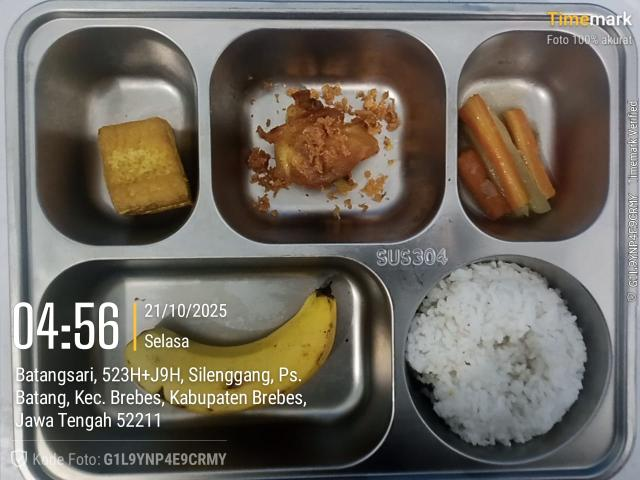ayam: (260, 91, 378, 188)
buah: (126, 284, 336, 414)
nasi: (406, 262, 586, 446)
sayur: (458, 94, 555, 218)
tahu: (98, 117, 192, 215)
